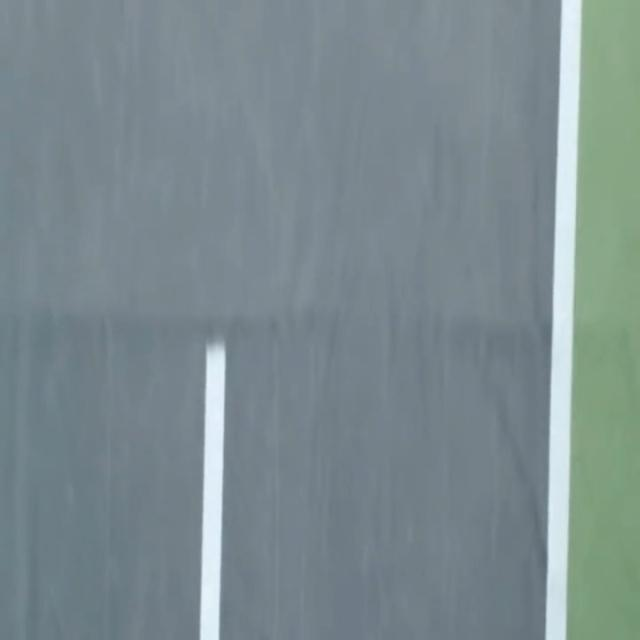center: (199, 342, 226, 639)
right: (546, 0, 581, 639)
